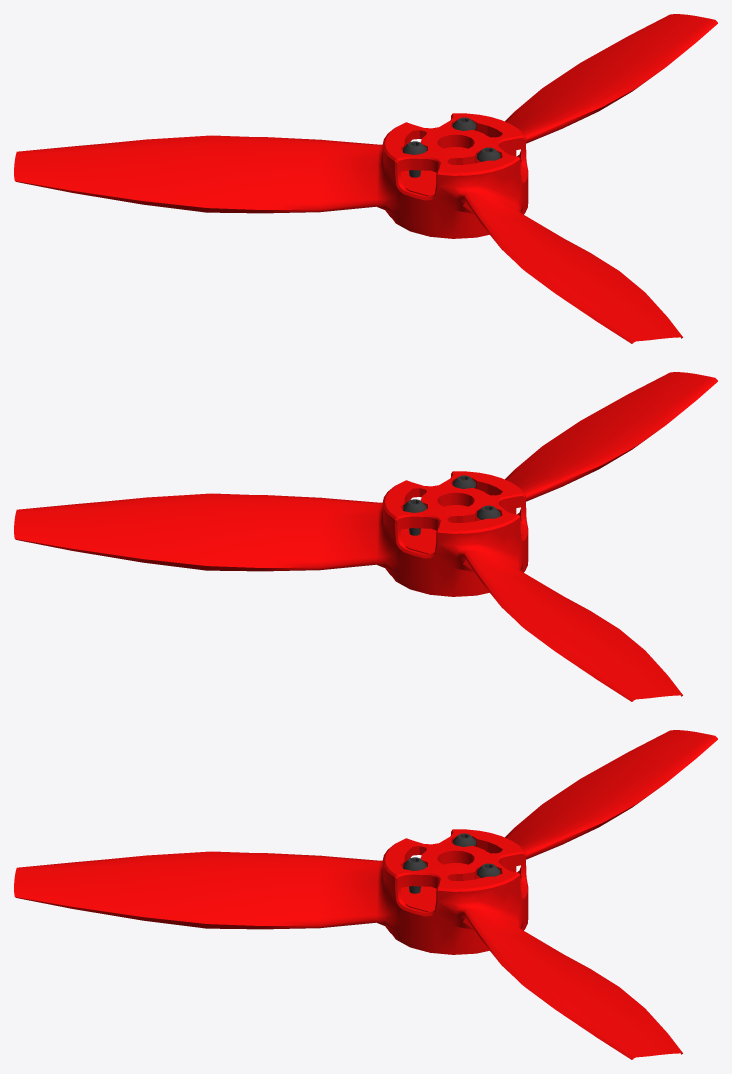
File: propeller_fl_red.dae
3 views of the same model, one above another, from view 1: azimuth 30°, elevation 25°; view 2: azimuth 150°, elevation 25°; view 3: azimuth 270°, elevation 25° (orthographic).
Visible parts, largest first — view 1: Helice_Avant_Gauche; view 2: Helice_Avant_Gauche; view 3: Helice_Avant_Gauche.
Boxes of the visible parts, x1=… form: Helice_Avant_Gauche: x1=14, y1=14, x2=717, y2=343; Helice_Avant_Gauche: x1=14, y1=372, x2=717, y2=701; Helice_Avant_Gauche: x1=14, y1=730, x2=717, y2=1059.
Bounding box in the file's own units: 0.1359 × 0.121 × 0.0137.
